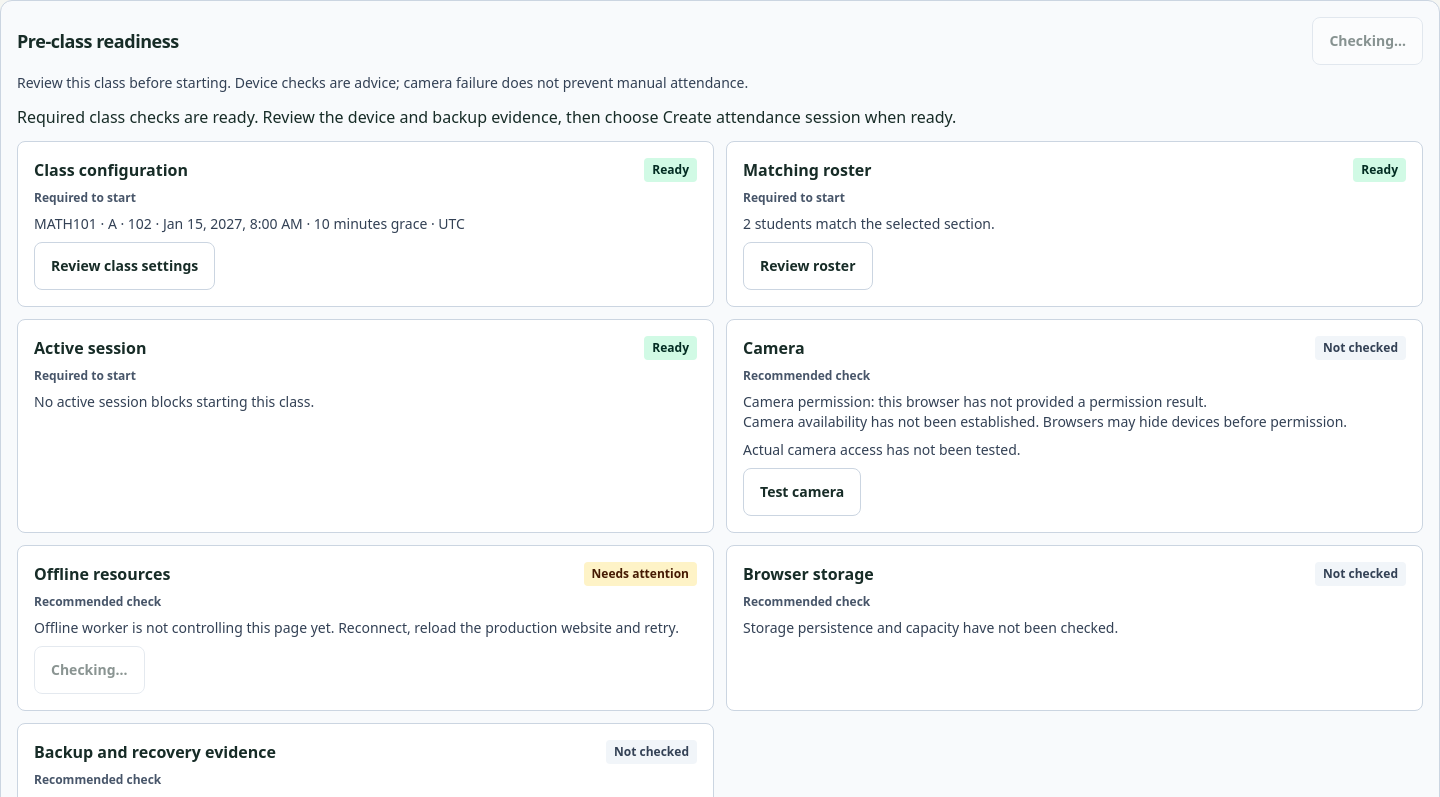
Scenario: pre-class readiness workflow › explains camera denial while preserving readiness for manual attendance
What coordinates should you click on to do the following:
click the button "Test camera"
I would click on:
 (802, 492)
Its box is [743,468,861,516].
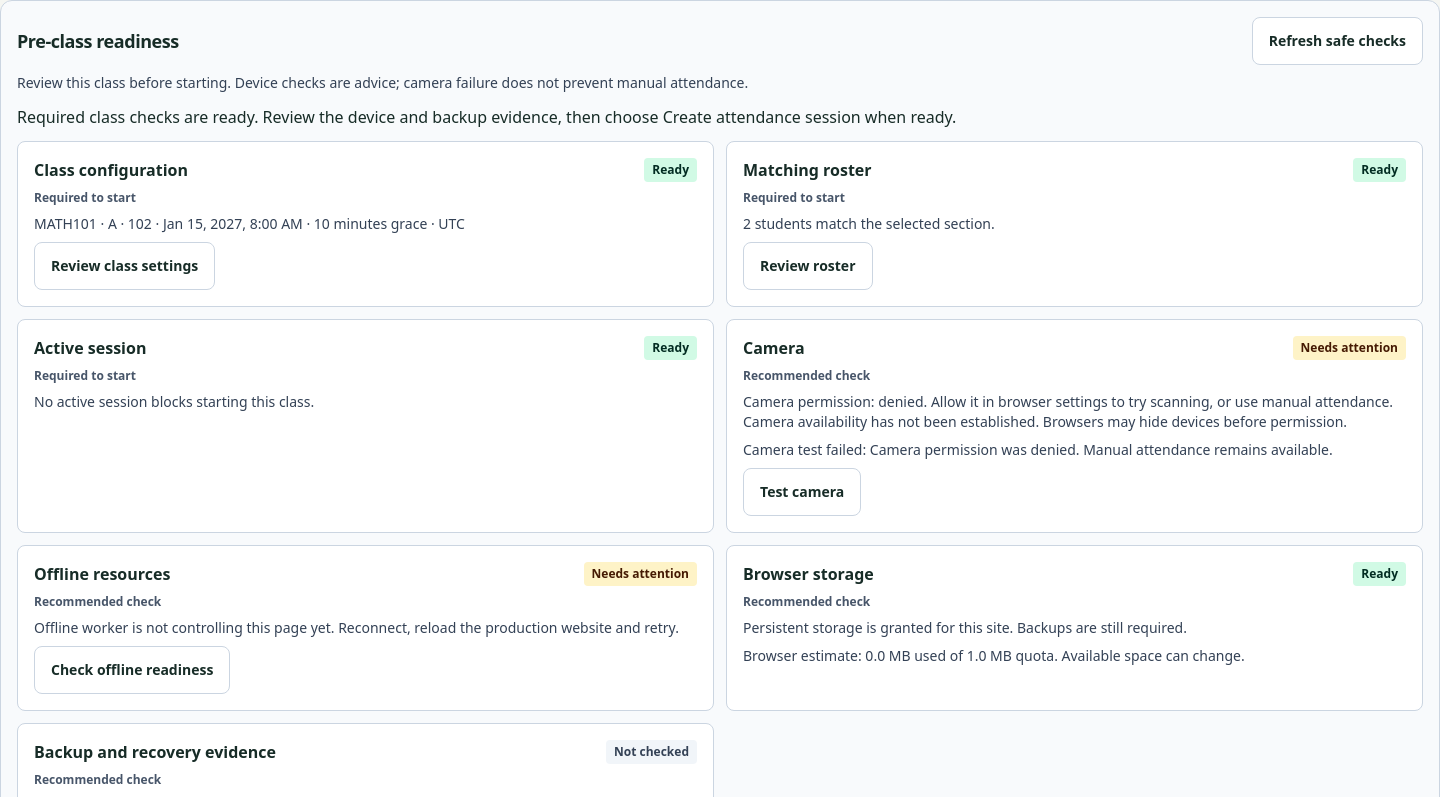
Expected: the text "Required class checks are ready" is shown, [17,106,956,128]
Now the text "Camera test failed: Camera permission was denied" is shown, box [743,440,1333,459]
Now the 1st text "Needs attention" is shown, box [1292,336,1406,360]
